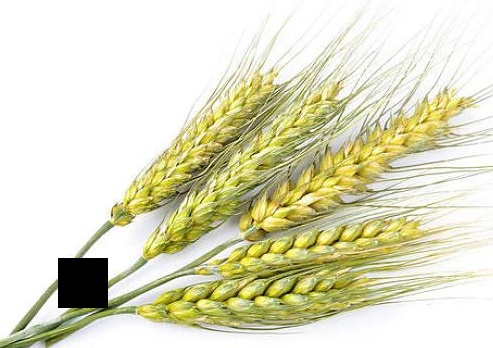wheat: (132, 93, 333, 261), (234, 100, 468, 239), (108, 65, 287, 219), (195, 212, 444, 278), (127, 272, 387, 328)
